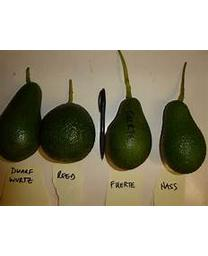avocado: (104, 97, 154, 171), (158, 101, 207, 174), (41, 99, 96, 164), (2, 81, 41, 166)
